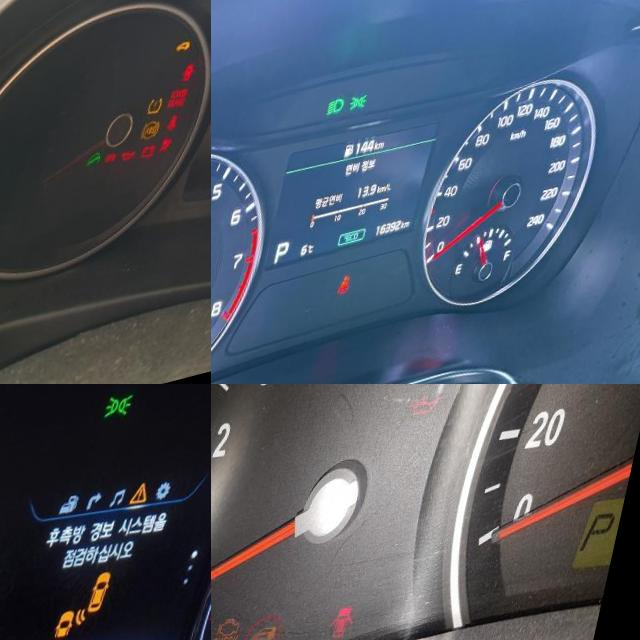Central Warning lamp: (139, 497, 165, 525)
Doors: (344, 622, 373, 640), (193, 75, 210, 95)
Low beam: (334, 107, 354, 129)
SideLamp: (109, 405, 142, 438), (356, 106, 377, 125)
